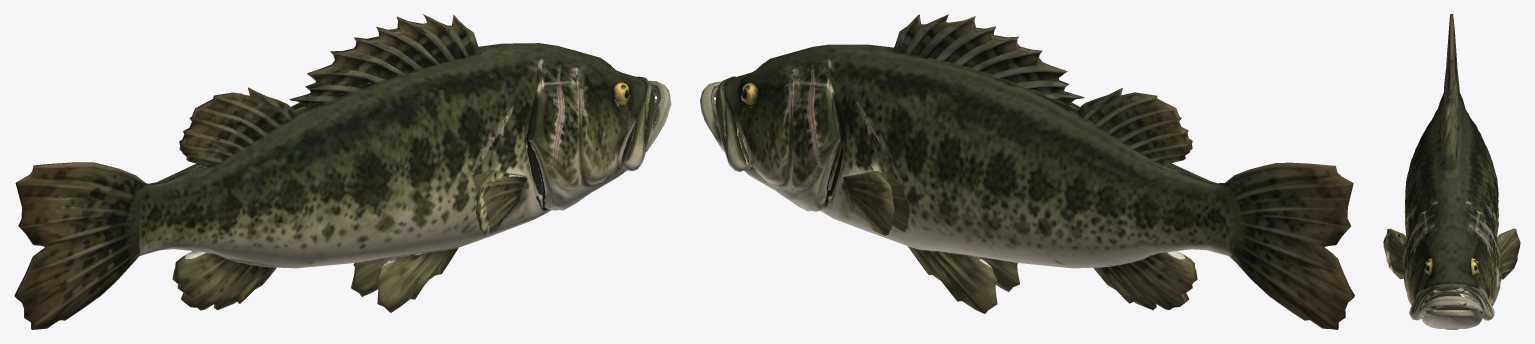
File: gerald.glb
3 renders of one model, left to right at view 1: azimuth 30°, elevation 25°; view 2: azimuth 150°, elevation 25°; view 3: azimuth 270°, elevation 25°, orthographic. The views are drawn at different scales.
Visible parts, largest first — view 1: fish; view 2: fish; view 3: fish.
Part boxes in pixels (x1,y1,x2,y2): fish: (14,14,671,329); fish: (700,14,1354,329); fish: (1383,14,1520,329).
Bounding box in the file's own units: 0.9998 × 0.4158 × 0.2427.
1 material, 1 textured.
